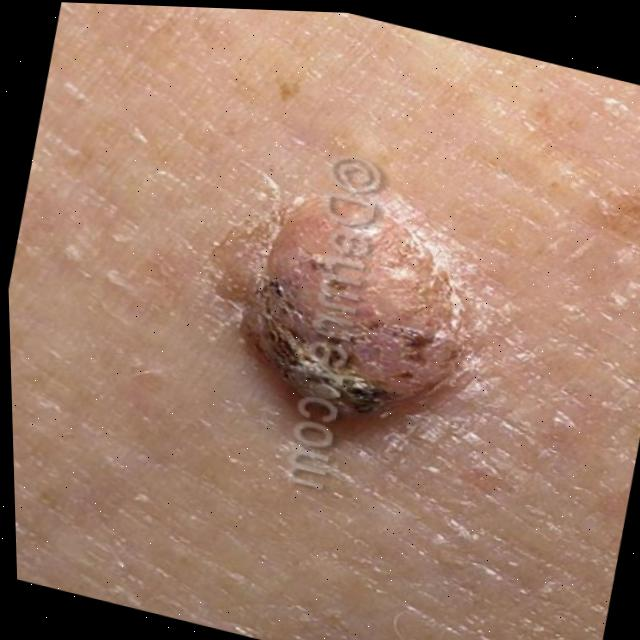Eczema: (194, 150, 496, 461)
